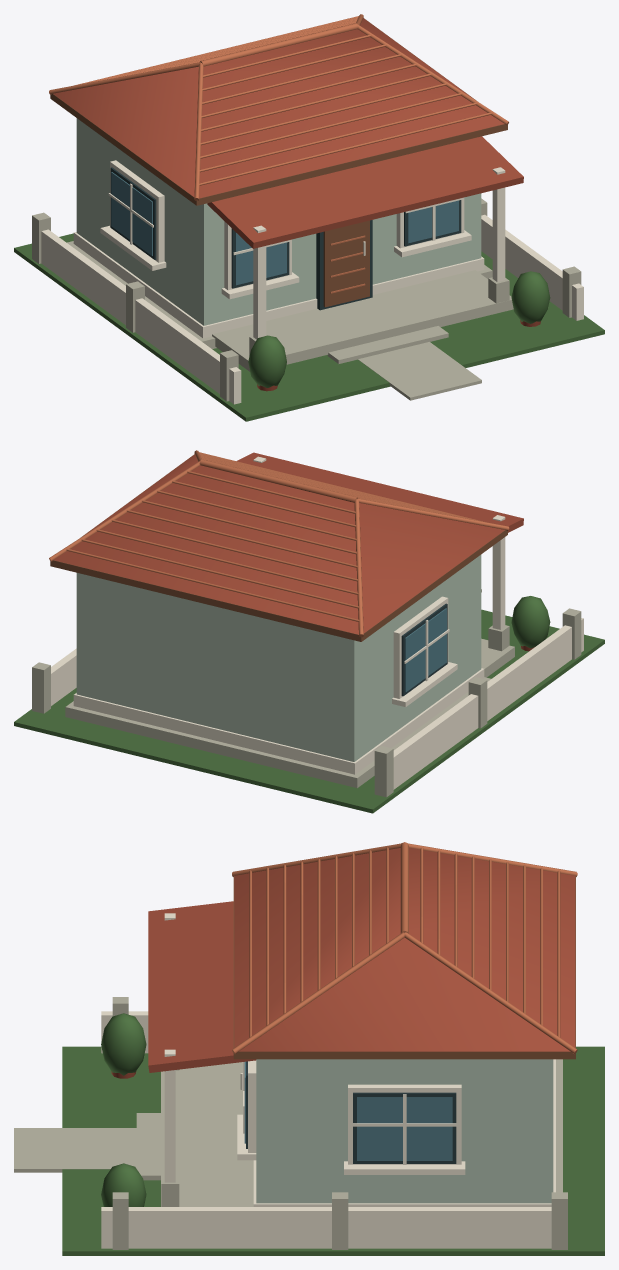
The model's file is house-sage.glb.
3 views of the same model, one above another, from view 1: azimuth 30°, elevation 25°; view 2: azimuth 150°, elevation 25°; view 3: azimuth 270°, elevation 25° (orthographic). The views are drawn at different scales.
Parts seen in each view (by area): view 1: Tropical_house_Terracotta, Tropical_house_Limestone_trim, Tropical_house_Paving, Tropical_house_Mineral_plaster, Tropical_house_Garden_foliage, Tropical_house_Tile_ridges, Tropical_house_Teak, Tropical_house_Blue_glazing, Tropical_house_Charcoal_frames; view 2: Tropical_house_Mineral_plaster, Tropical_house_Terracotta, Tropical_house_Limestone_trim, Tropical_house_Garden_foliage, Tropical_house_Tile_ridges, Tropical_house_Paving, Tropical_house_Teak, Tropical_house_Blue_glazing, Tropical_house_Charcoal_frames; view 3: Tropical_house_Terracotta, Tropical_house_Mineral_plaster, Tropical_house_Limestone_trim, Tropical_house_Garden_foliage, Tropical_house_Paving, Tropical_house_Tile_ridges, Tropical_house_Blue_glazing, Tropical_house_Teak, Tropical_house_Charcoal_frames.
Boxes of the visible parts, left/top/right/bottom form: Tropical_house_Terracotta: left=53, top=18, right=540, bottom=391; Tropical_house_Limestone_trim: left=41, top=160, right=583, bottom=404; Tropical_house_Paving: left=32, top=198, right=581, bottom=401; Tropical_house_Mineral_plaster: left=76, top=118, right=481, bottom=325; Tropical_house_Garden_foliage: left=14, top=233, right=604, bottom=421; Tropical_house_Tile_ridges: left=49, top=14, right=508, bottom=293; Tropical_house_Teak: left=50, top=18, right=507, bottom=307; Tropical_house_Blue_glazing: left=111, top=172, right=458, bottom=285; Tropical_house_Charcoal_frames: left=110, top=167, right=461, bottom=310; Tropical_house_Mineral_plaster: left=76, top=555, right=481, bottom=761; Tropical_house_Terracotta: left=53, top=452, right=534, bottom=651; Tropical_house_Limestone_trim: left=51, top=456, right=583, bottom=789; Tropical_house_Garden_foliage: left=14, top=596, right=604, bottom=813; Tropical_house_Tile_ridges: left=49, top=450, right=509, bottom=637; Tropical_house_Paving: left=32, top=589, right=581, bottom=797; Tropical_house_Teak: left=50, top=454, right=507, bottom=641; Tropical_house_Blue_glazing: left=405, top=608, right=446, bottom=692; Tropical_house_Charcoal_frames: left=401, top=603, right=447, bottom=696; Tropical_house_Terracotta: left=111, top=848, right=575, bottom=1078; Tropical_house_Mineral_plaster: left=256, top=1059, right=553, bottom=1203; Tropical_house_Limestone_trim: left=101, top=913, right=555, bottom=1248; Tropical_house_Garden_foliage: left=62, top=1013, right=604, bottom=1255; Tropical_house_Paving: left=14, top=997, right=567, bottom=1249; Tropical_house_Tile_ridges: left=232, top=842, right=577, bottom=1054; Tropical_house_Blue_glazing: left=244, top=1061, right=452, bottom=1160; Tropical_house_Teak: left=233, top=875, right=575, bottom=1059; Tropical_house_Charcoal_frames: left=246, top=1061, right=456, bottom=1163.
Size of the model in its own units: 7.5 by 4.57 by 9.15.
